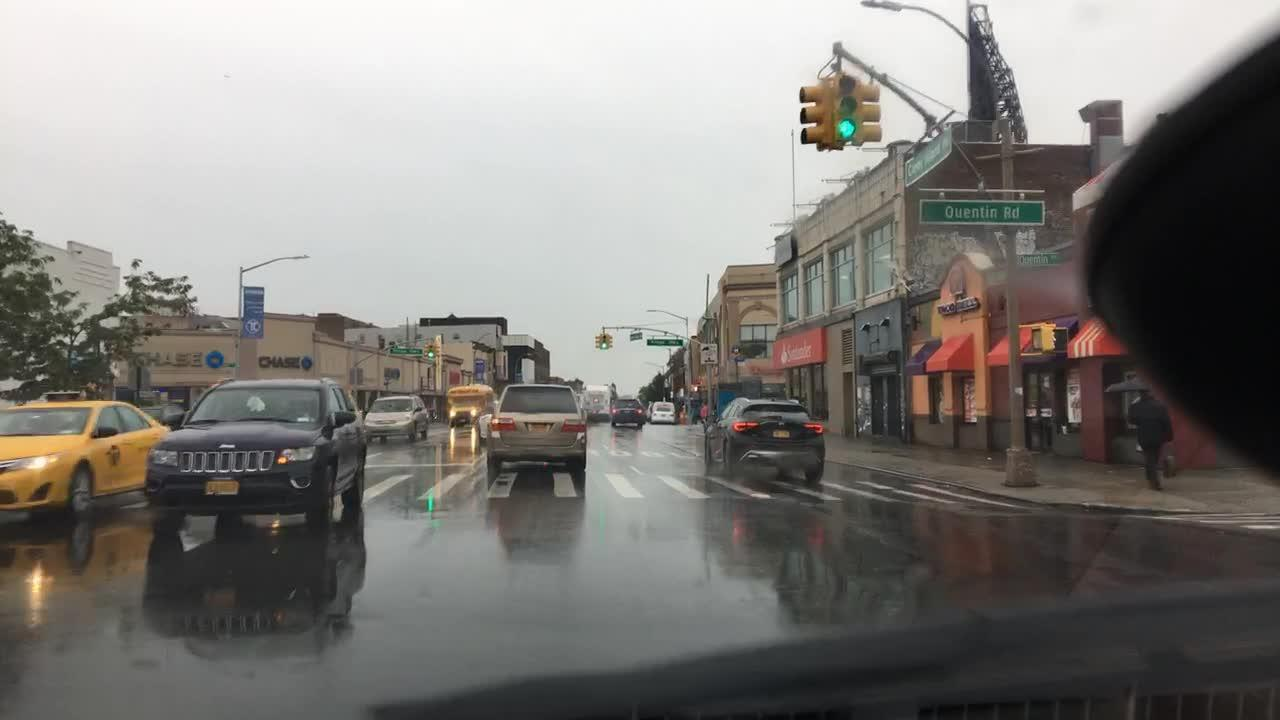jeep: (214, 439, 239, 454)
